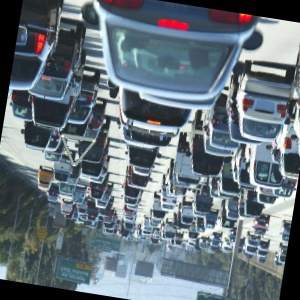triangle: (58, 130, 98, 168)
